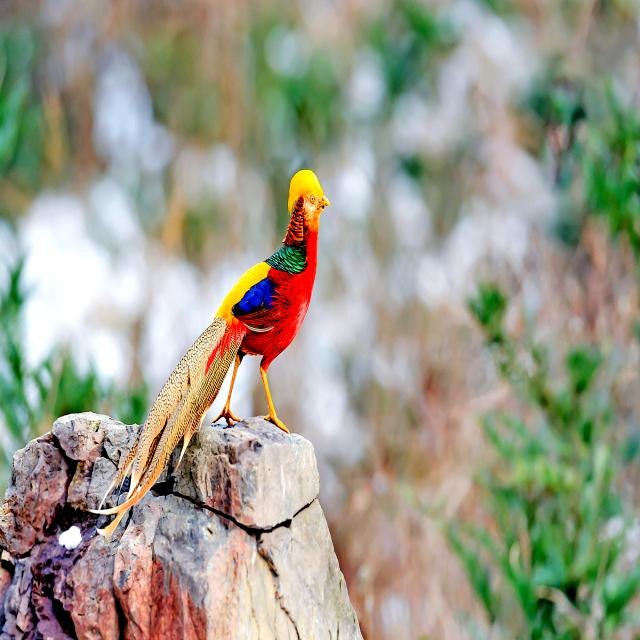Chrysolophus pictus feather: (101, 317, 239, 534)
